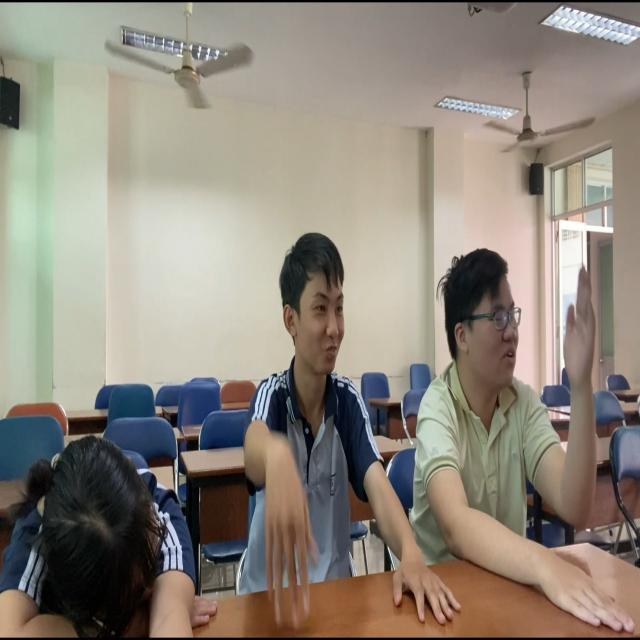raise_hand: (406, 237, 612, 592)
sleep: (1, 407, 207, 640)
